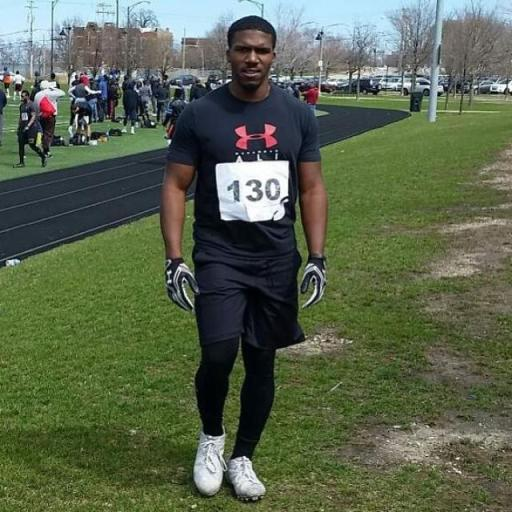Under Armour: (231, 120, 280, 156)
